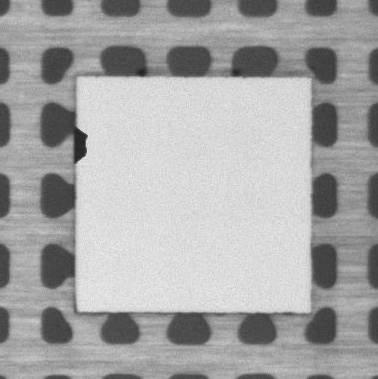DIE_BROKEN: (71, 125, 90, 168)
